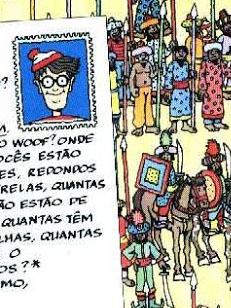waldo: (27, 49, 80, 113)
